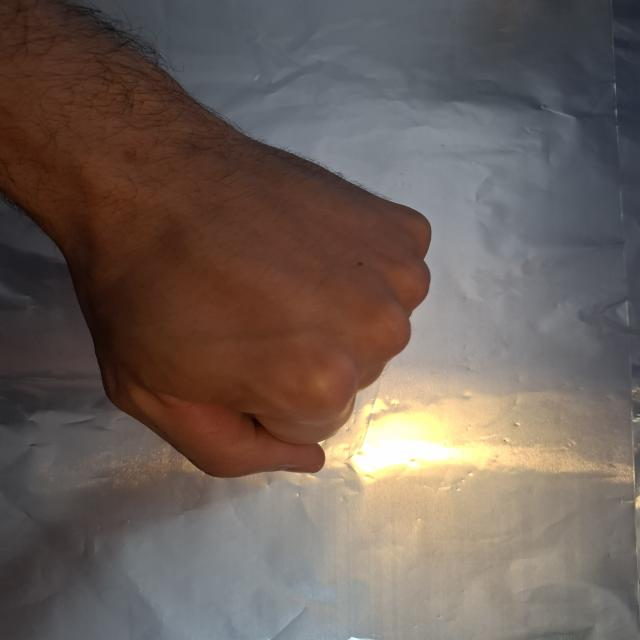glove_off: (45, 120, 434, 480)
